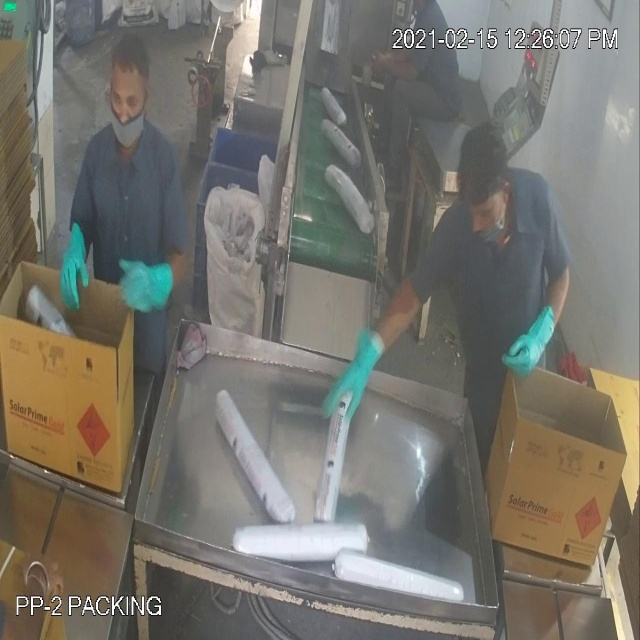Guantes: (323, 309, 387, 438), (114, 243, 182, 326), (492, 309, 557, 388), (51, 213, 98, 316)
Sin_guantes: (364, 48, 415, 88)
